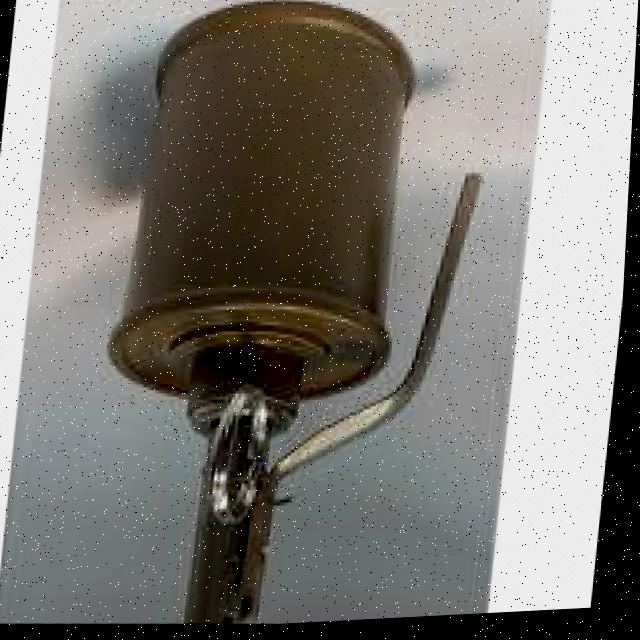grenade: (85, 0, 503, 635)
